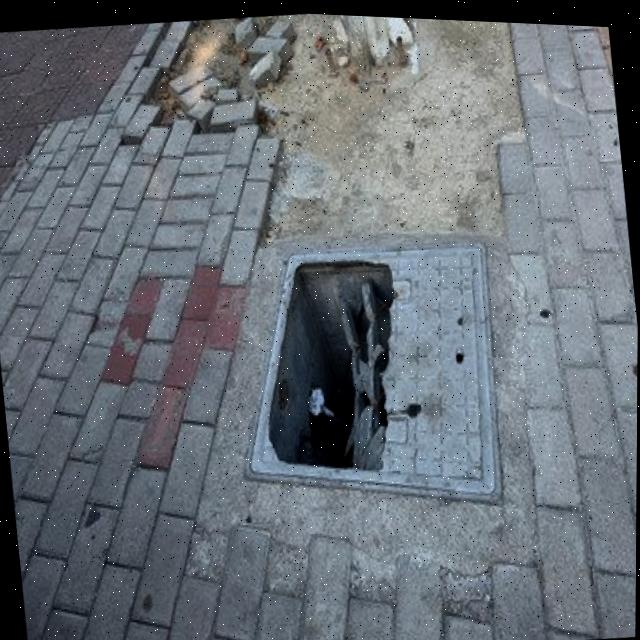manhole: (225, 214, 520, 524)
